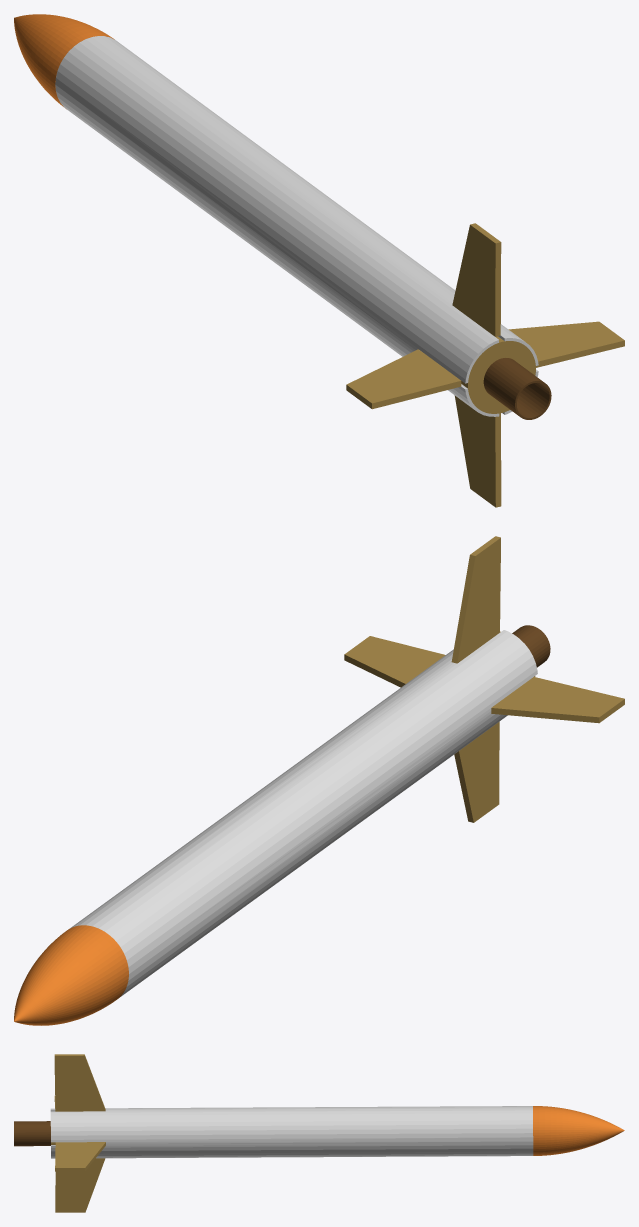
Rendered from zoomer_full_rocket.glb.
3 renders of one model, top to bottom at view 1: azimuth 30°, elevation 25°; view 2: azimuth 150°, elevation 25°; view 3: azimuth 270°, elevation 25°, orthographic. The views are drawn at different scales.
Visible parts, largest first — view 1: bodytube_zoomer, fincan_zoomer, nosecone_zoomer, innertube_zoomer; view 2: bodytube_zoomer, fincan_zoomer, nosecone_zoomer, innertube_zoomer; view 3: bodytube_zoomer, fincan_zoomer, nosecone_zoomer, innertube_zoomer.
Part boxes in pixels (x1,y1,x2,y2): bodytube_zoomer: (55, 36, 538, 416); fincan_zoomer: (346, 223, 624, 507); nosecone_zoomer: (14, 14, 114, 109); innertube_zoomer: (483, 358, 551, 419); bodytube_zoomer: (69, 630, 537, 997); fincan_zoomer: (344, 536, 624, 822); nosecone_zoomer: (14, 925, 128, 1025); innertube_zoomer: (512, 625, 550, 667); bodytube_zoomer: (50, 1106, 533, 1158); fincan_zoomer: (51, 1054, 105, 1212); nosecone_zoomer: (533, 1106, 624, 1155); innertube_zoomer: (14, 1121, 50, 1146).
Bounding box in the file's own units: 287 × 287 × 1014.
